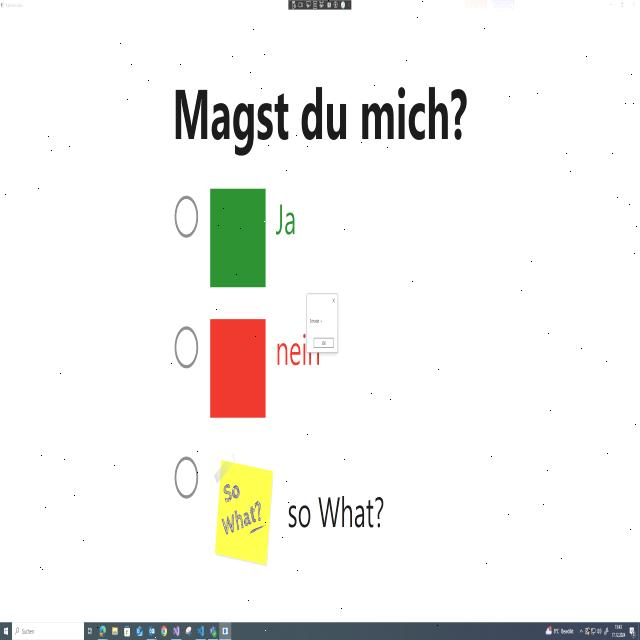button: (313, 334, 335, 351), (616, 0, 628, 15), (628, 0, 640, 15), (604, 0, 616, 13), (330, 296, 337, 307)
input: (12, 621, 84, 640)
label: (280, 491, 390, 545), (274, 196, 316, 243), (274, 339, 306, 366)
radio: (163, 301, 203, 382), (169, 431, 205, 511), (167, 181, 205, 248)
